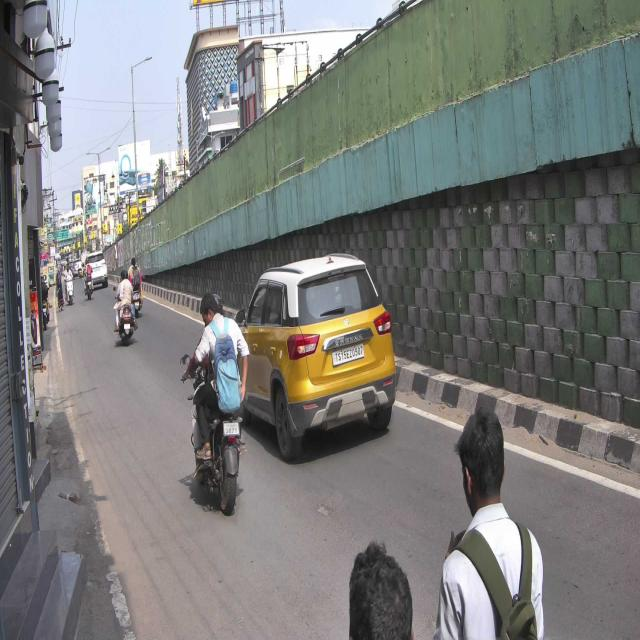double_rider: (179, 287, 251, 516)
